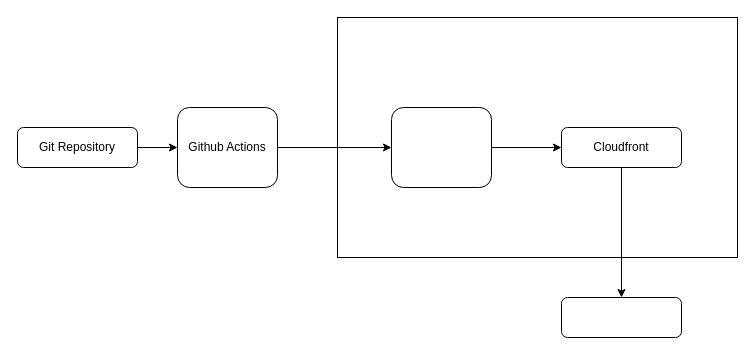
This 755x355 diagram has some shape labels left out. Each missing label, with the centre of its shape:
"internet" goes at (x=621, y=317).
"S3" goes at (x=441, y=147).
